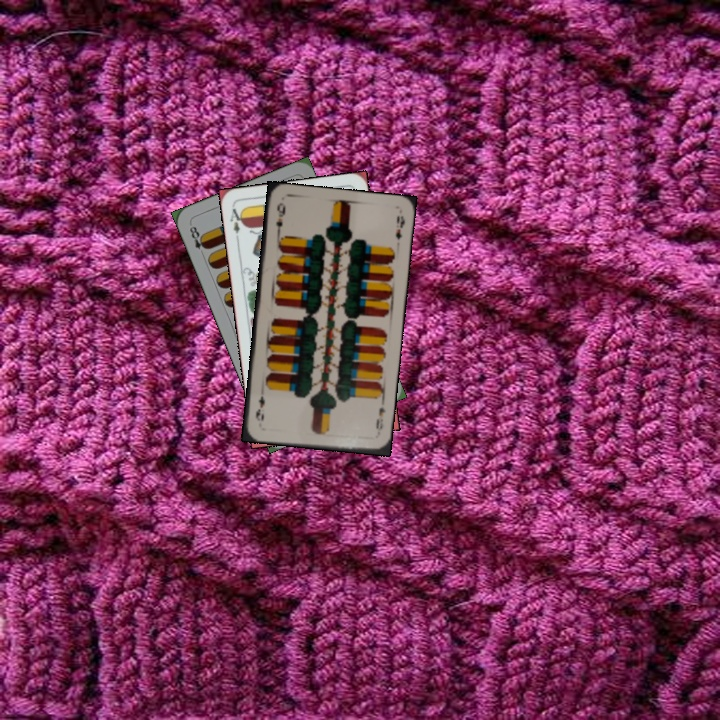E8: (185, 220, 210, 259)
E9: (272, 198, 288, 238), (372, 403, 388, 433)
EA: (226, 204, 246, 243)
